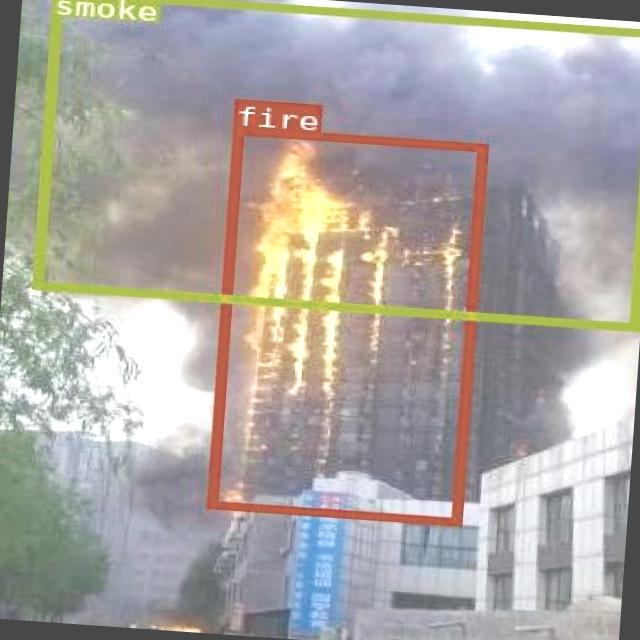fire: (204, 124, 486, 523)
smoke: (31, 0, 640, 329)
